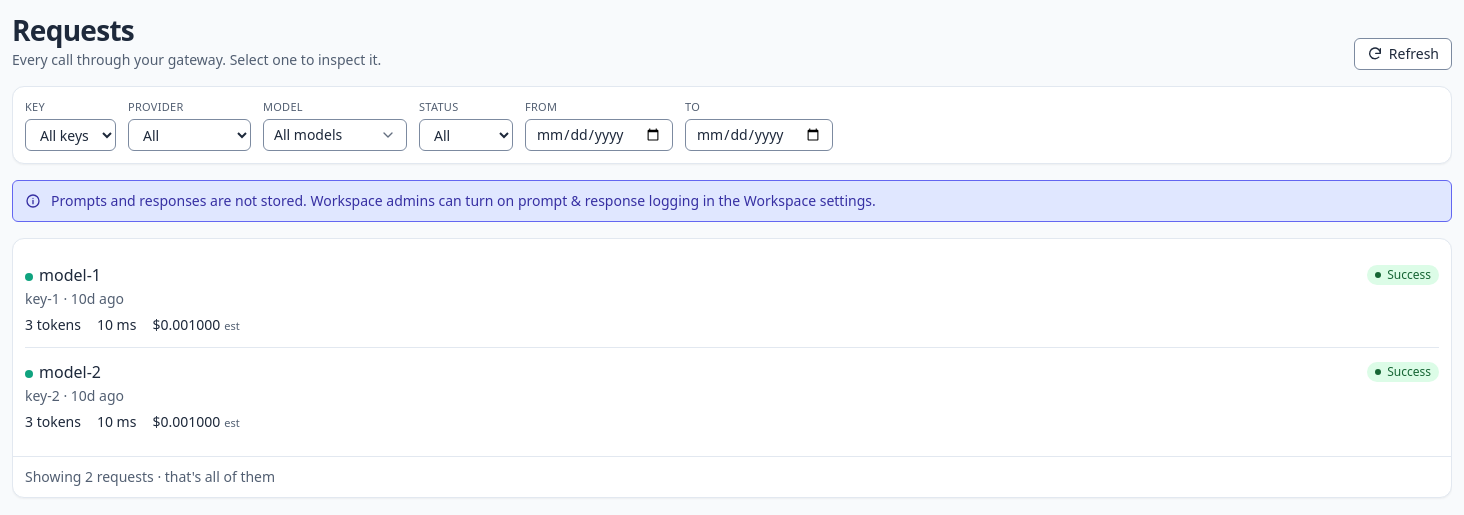
Test: Requests: full-screen detail on a narrower screen › lists cards, opens a full-screen detail with a Back button, and returns to the card
The image size is (1464, 515).
Click the button "model-1" at [70, 275], box [25, 251, 1439, 347]
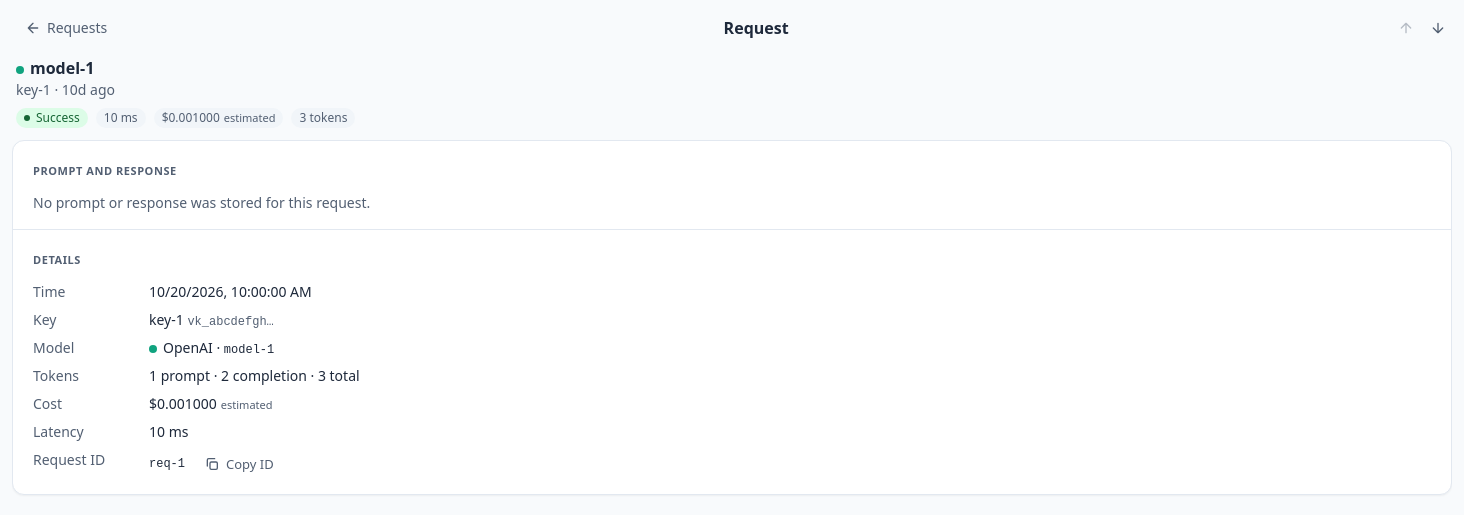
Expected: the heading "Request" is shown, [724, 16, 789, 40]
Click the button with aria-label "Back to requests list" at [66, 28], box [12, 12, 120, 44]
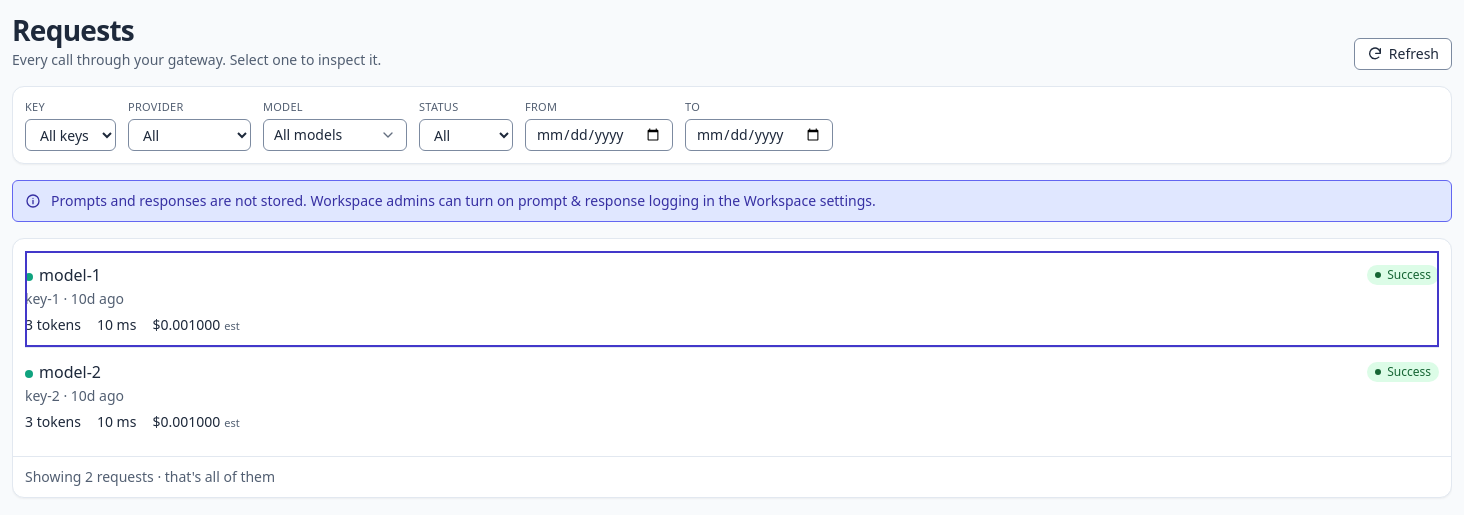
Expected: the list named "Requests" is shown, [25, 251, 1439, 444]
